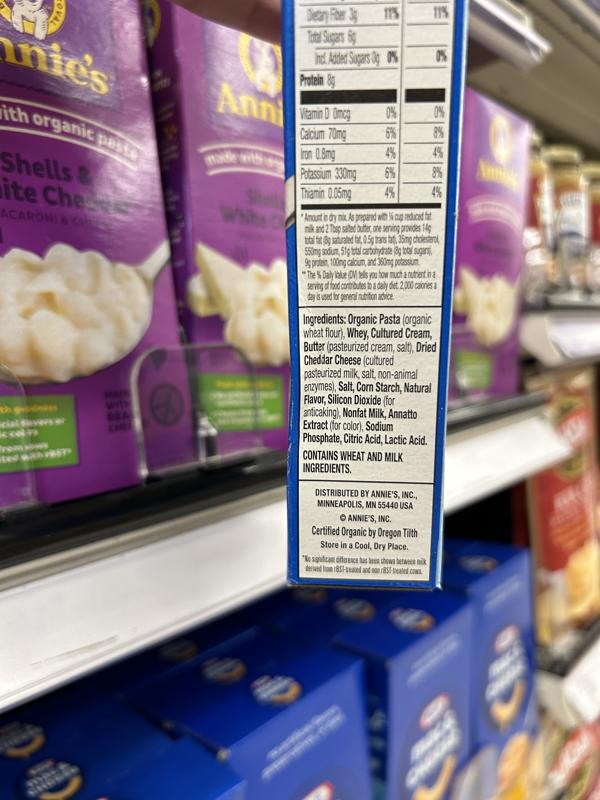ingredients: (300, 313, 437, 448)
